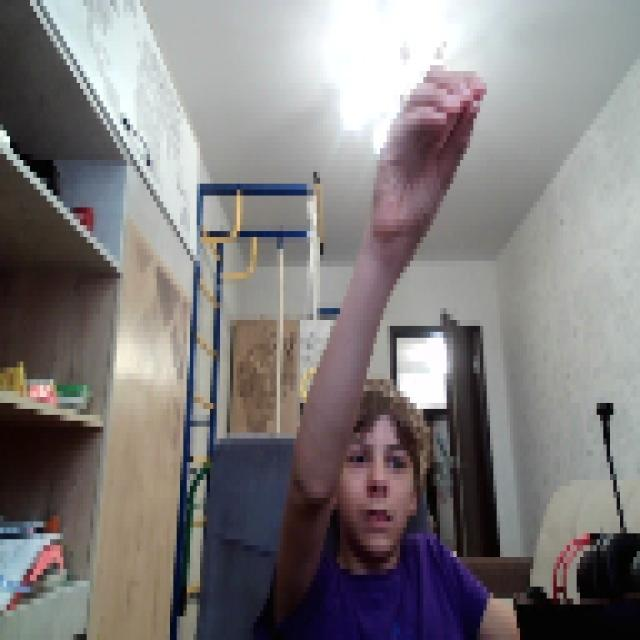left_click: (367, 59, 483, 243)
